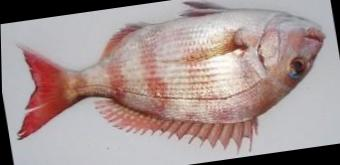fish: (15, 1, 325, 150)
